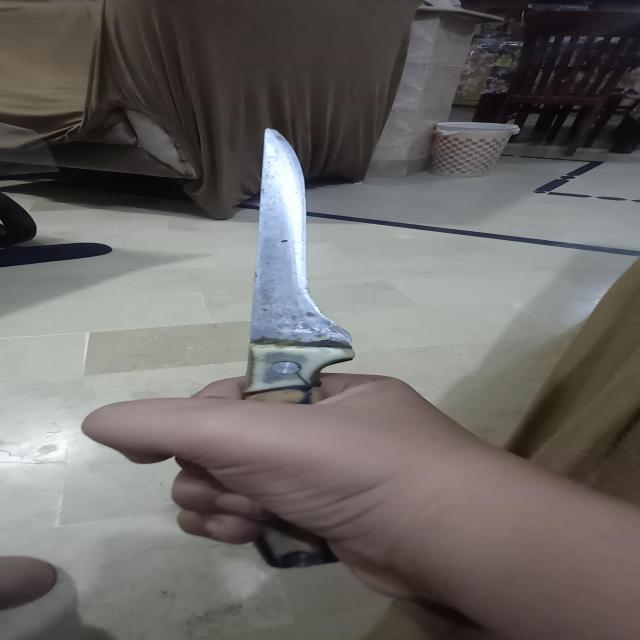weapon: (254, 130, 362, 572)
